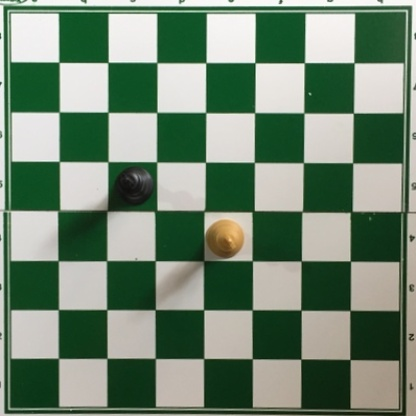black-king: (114, 162, 156, 207)
white-king: (205, 218, 246, 259)
